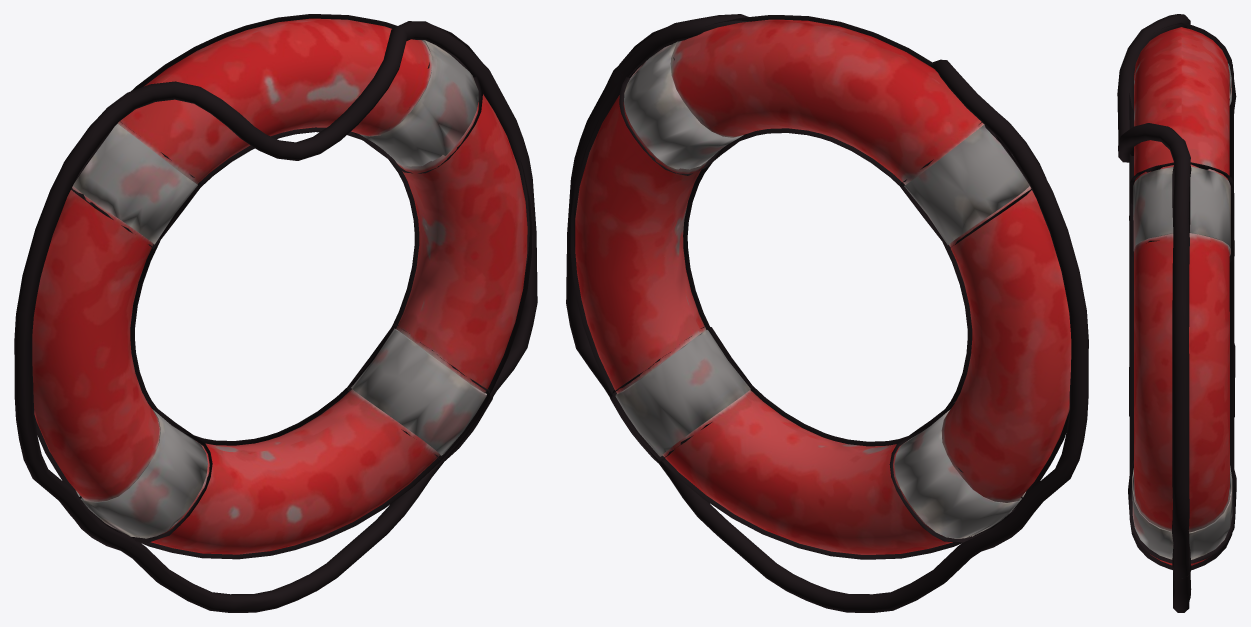
File: SM_Int_Lifebuoy.fbx
The picture shows the model from 3 angles, left to right: view 1: azimuth 30°, elevation 25°; view 2: azimuth 150°, elevation 25°; view 3: azimuth 270°, elevation 25°; orthographic projection. The views are drawn at different scales.
Parts seen in each view (by area): view 1: SM_Int_Lifebuoy; view 2: SM_Int_Lifebuoy; view 3: SM_Int_Lifebuoy.
Part boxes in pixels (x1=…): SM_Int_Lifebuoy: x1=14, y1=14, x2=537, y2=612; SM_Int_Lifebuoy: x1=566, y1=14, x2=1088, y2=612; SM_Int_Lifebuoy: x1=1117, y1=14, x2=1236, y2=612.
Size of the model in its own units: 0.7089 by 0.7606 by 0.149.
